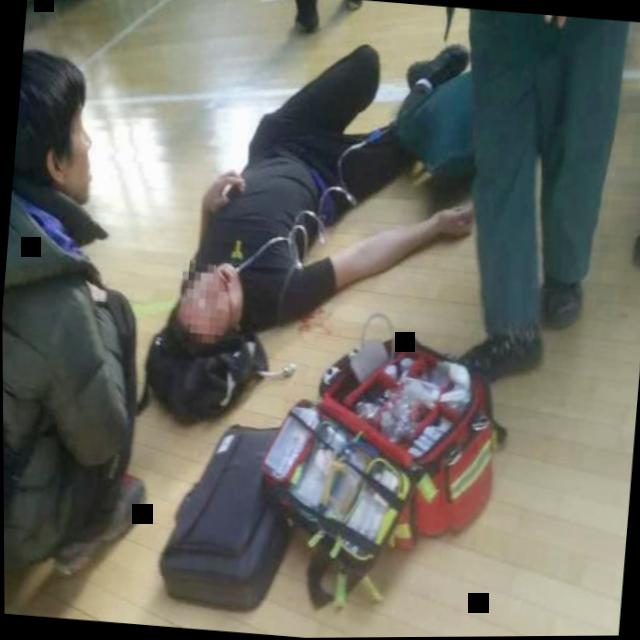Fall-Detected: (128, 3, 493, 465)
